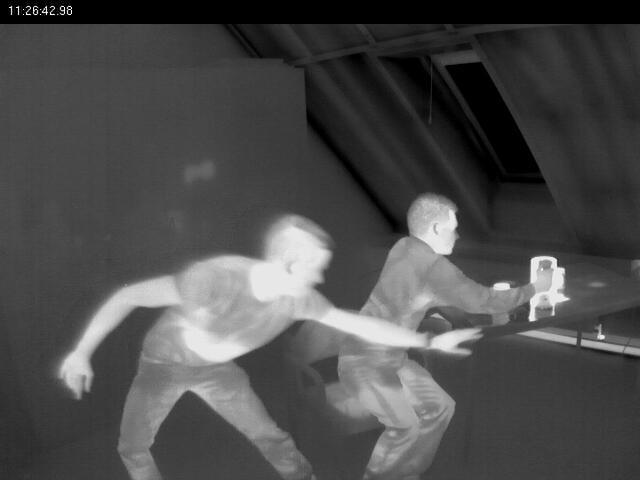person: (106, 193, 328, 480), (346, 184, 532, 480)
